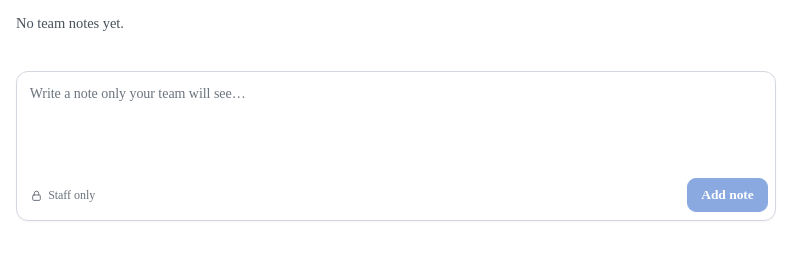
it: HiveTeamNotesPanel › shows inline error on save failure and Try again uses retrySameKey
The image size is (793, 264).
Later steps or results of the test are not shown.
Type "Please review stubs." into the text box at (396, 122), box [17,72,775,173]
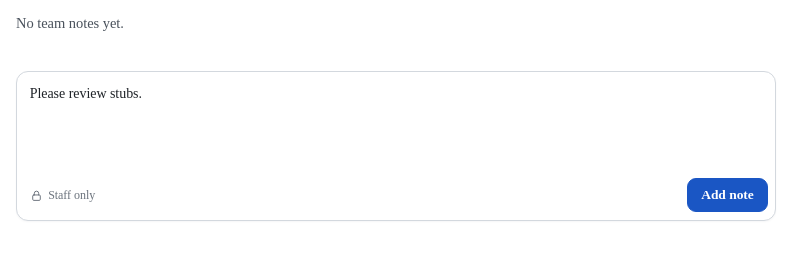
Click the button "Add note" at (727, 195), box [687,178,768,212]
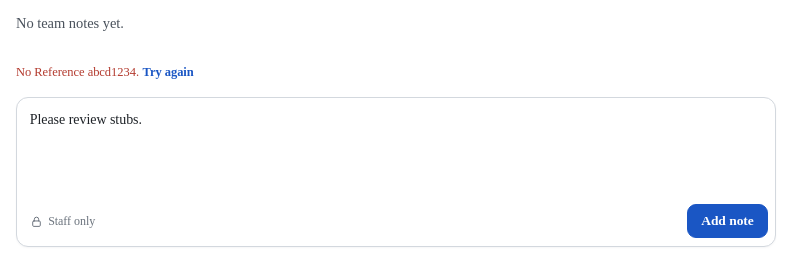
Check: the message shows "No", box [16,66,31,80]
